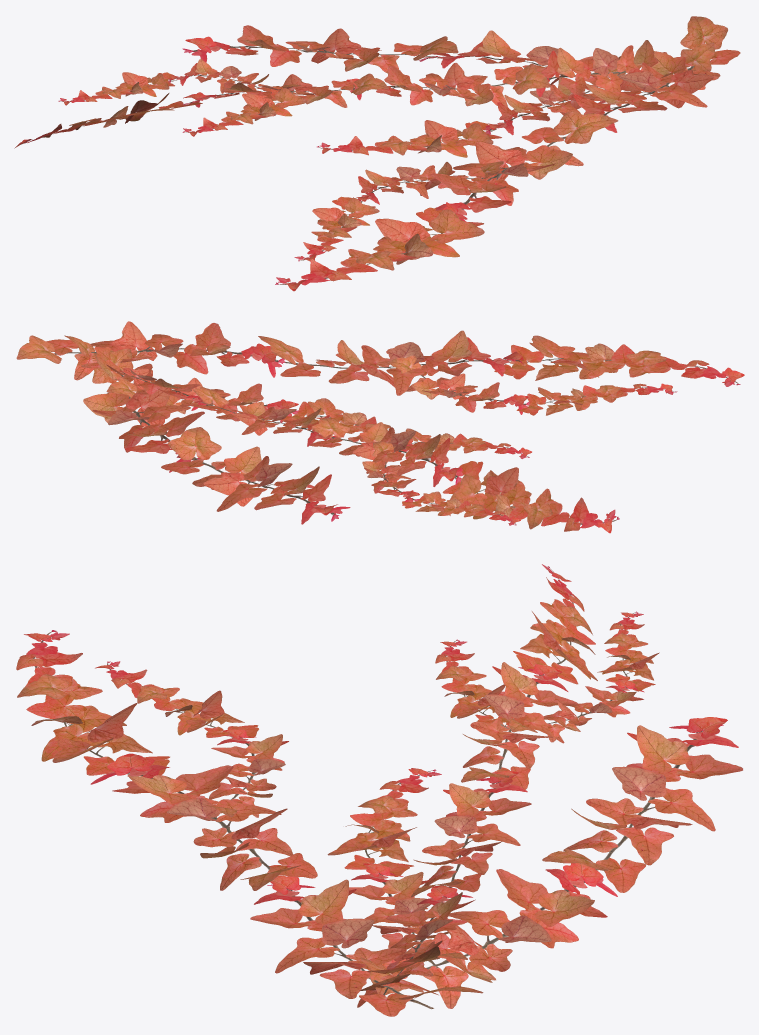
The model's file is sm_Ivy_01_02.fbx.
3 views of the same model, one above another, from view 1: azimuth 30°, elevation 25°; view 2: azimuth 150°, elevation 25°; view 3: azimuth 270°, elevation 25° (orthographic). The views are drawn at different scales.
Parts seen in each view (by area): view 1: sm_Ivy_01_02; view 2: sm_Ivy_01_02; view 3: sm_Ivy_01_02.
Part boxes in pixels (x1,y1,x2,y2): sm_Ivy_01_02: (14,16,740,291); sm_Ivy_01_02: (16,321,744,533); sm_Ivy_01_02: (16,564,742,1016).
Size of the model in its own units: 152 by 111 by 17.79.
